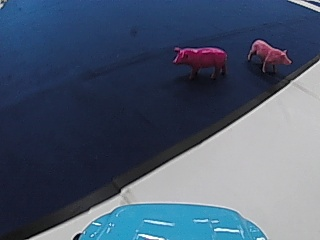pig: (169, 42, 228, 80), (247, 37, 292, 74)
